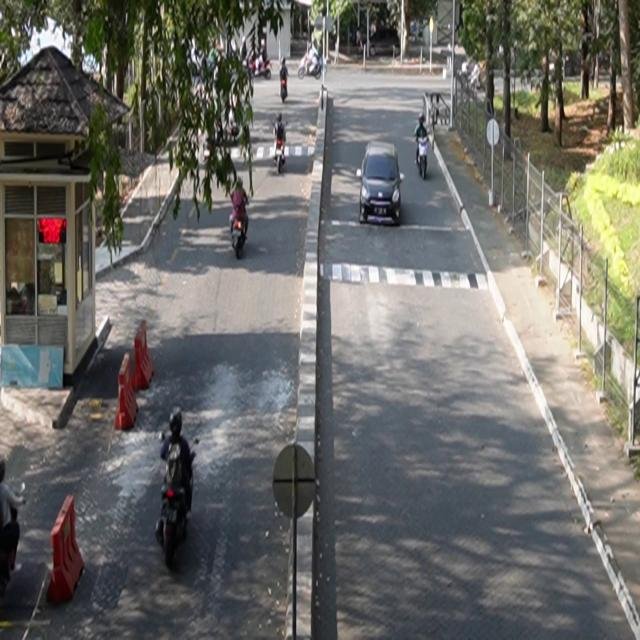car: (357, 141, 405, 226)
